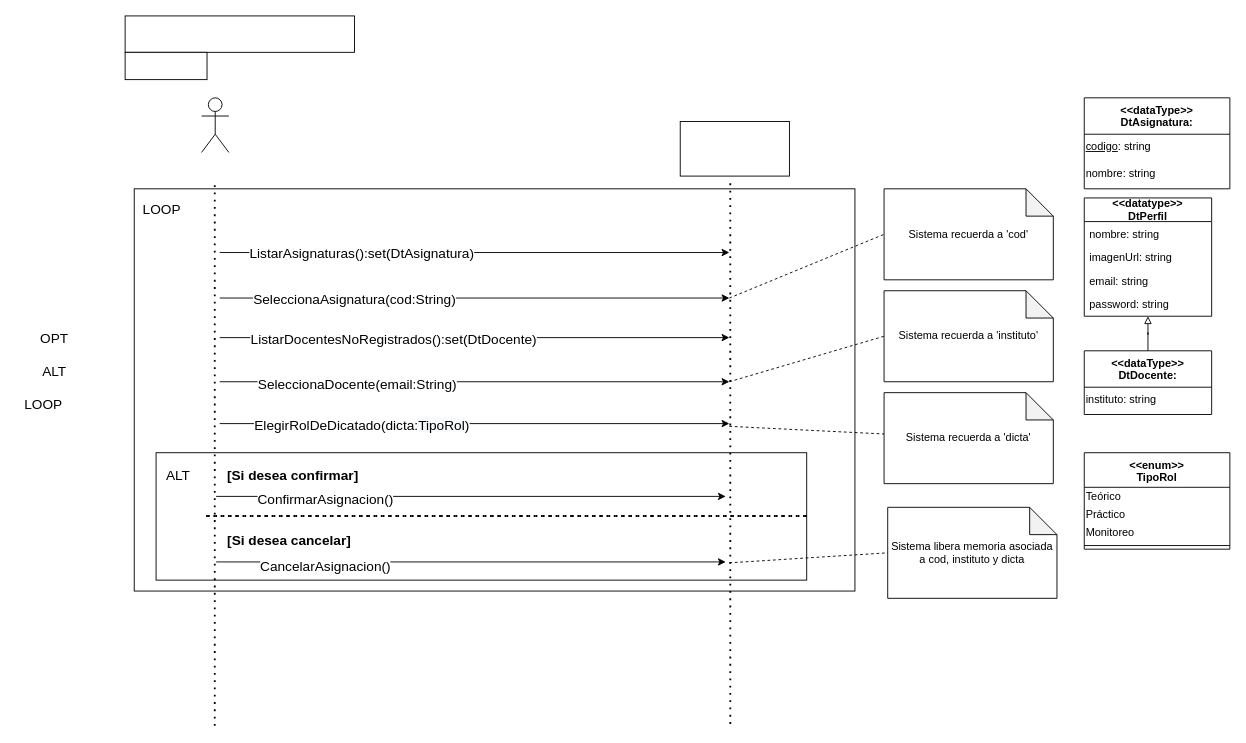
This 1246x743 diagram has some shape labels left out. The centre of each missing label's shape, as x and y in pixels:
":Sistema" goes at (734,148).
"Administrador" goes at (215,124).
"Asignación de docentes a una asignatura" goes at (239,33).
"Con memoria" goes at (165,65).
